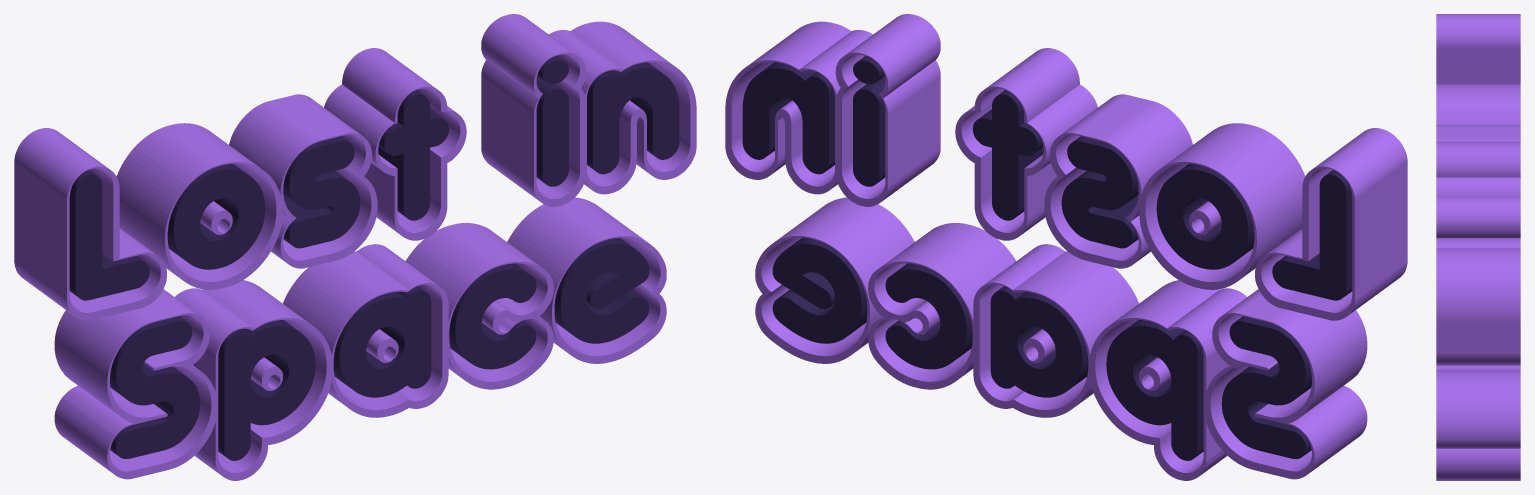
Rendered from Title.fbx.
The picture shows the model from 3 angles, left to right: view 1: azimuth 30°, elevation 25°; view 2: azimuth 150°, elevation 25°; view 3: azimuth 270°, elevation 25°; orthographic projection. The views are drawn at different scales.
Parts seen in each view (by area): view 1: Text; view 2: Text; view 3: Text.
Part boxes in pixels (left/top/right/bottom): Text: left=14, top=14, right=696, bottom=480; Text: left=725, top=14, right=1407, bottom=480; Text: left=1436, top=14, right=1520, bottom=480.
Size of the model in its own units: 7.51 by 3.98 by 1.09.
